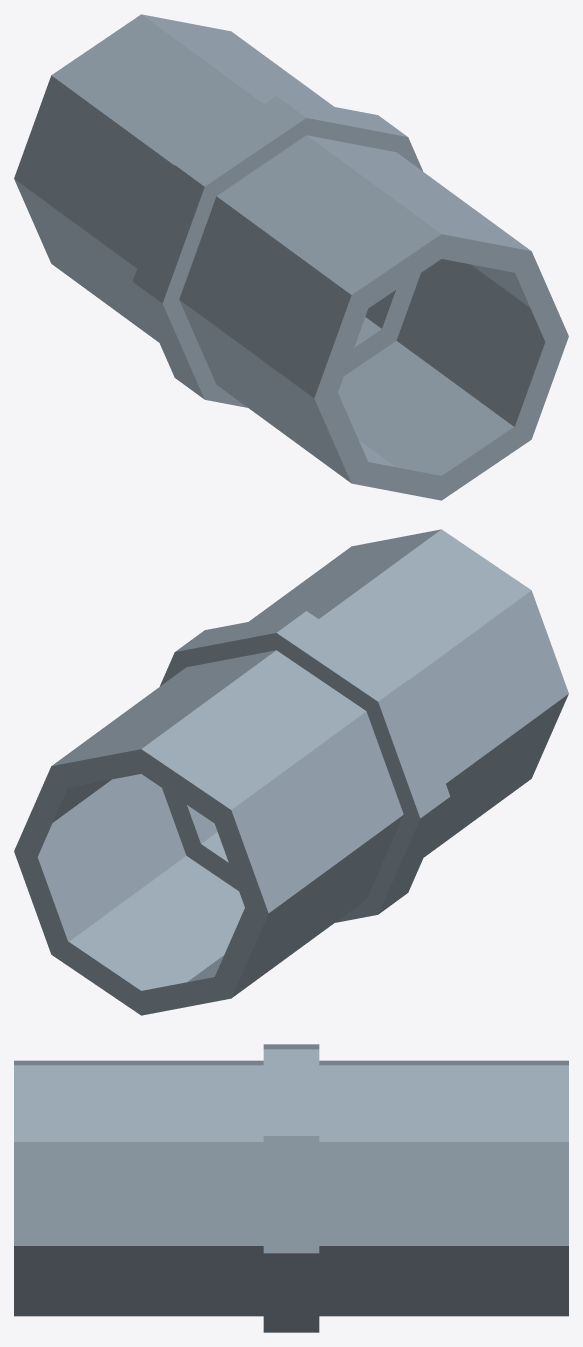
The model's file is pipestraightliner.glb.
The picture shows the model from 3 angles, top to bottom: view 1: azimuth 30°, elevation 25°; view 2: azimuth 150°, elevation 25°; view 3: azimuth 270°, elevation 25°; orthographic projection. The views are drawn at different scales.
Visible parts, largest first — view 1: pipeStraightLiner; view 2: pipeStraightLiner; view 3: pipeStraightLiner.
Part boxes in pixels (x1,y1,x2,y2): pipeStraightLiner: (14,14,568,500); pipeStraightLiner: (14,529,568,1015); pipeStraightLiner: (14,1044,568,1332).
Size of the model in its own units: 5.53 by 5.53 by 10.
